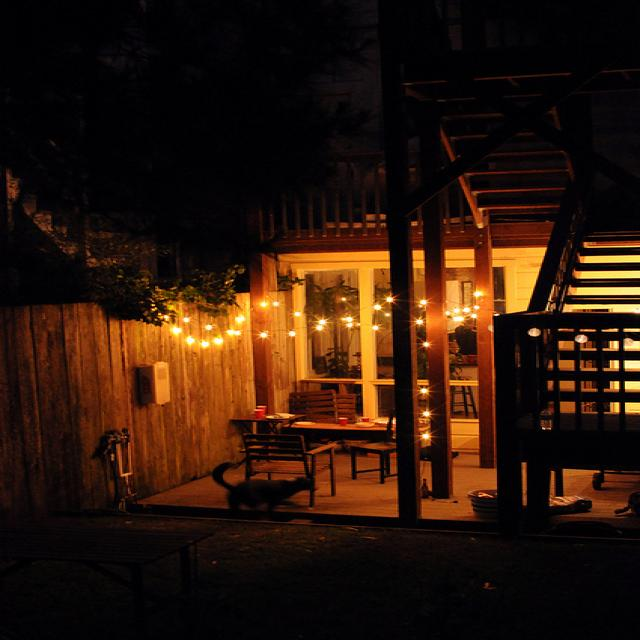Cat: (211, 458, 350, 525)
Table: (269, 397, 440, 465)
chair: (226, 414, 341, 494), (377, 410, 462, 489)
